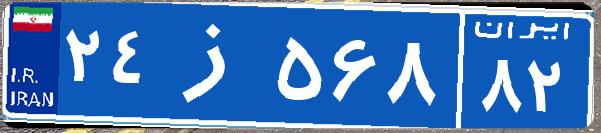2: (57, 26, 110, 107), (525, 38, 570, 115)
4: (110, 28, 158, 105)
5: (273, 28, 330, 110)
6: (330, 28, 385, 110)
8: (385, 28, 445, 110), (475, 38, 525, 113)
ز: (158, 15, 273, 115)
